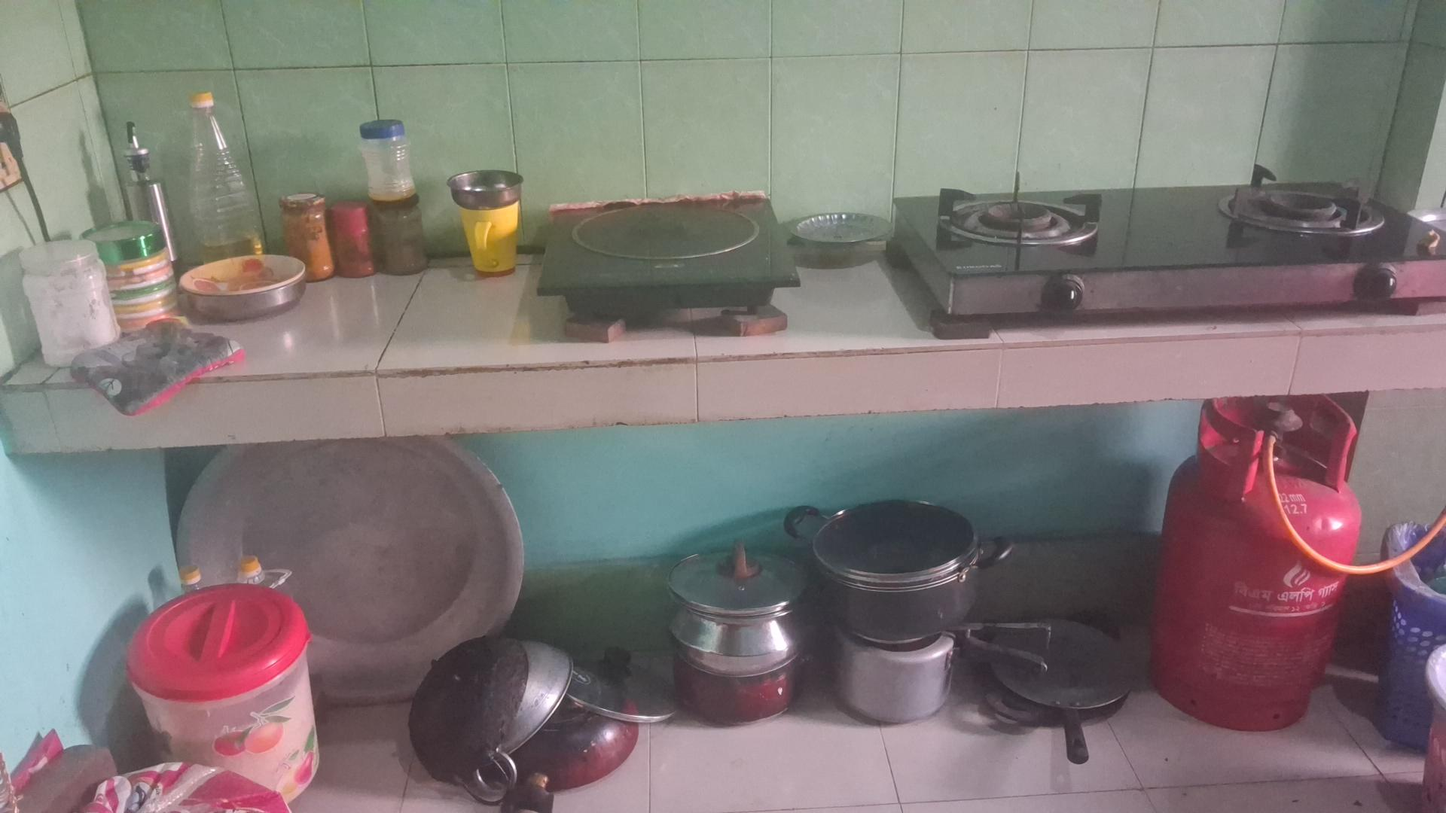Bottle: (180, 95, 267, 254)
Bowl: (184, 262, 308, 319), (790, 212, 894, 264)
Jar: (126, 594, 317, 793), (13, 238, 121, 360), (78, 221, 182, 325), (278, 191, 334, 278), (358, 121, 414, 197), (338, 195, 377, 278)
Mug: (458, 204, 529, 275)
Pan: (1000, 622, 1134, 765)
Pot: (792, 501, 1015, 637), (662, 553, 805, 672)
